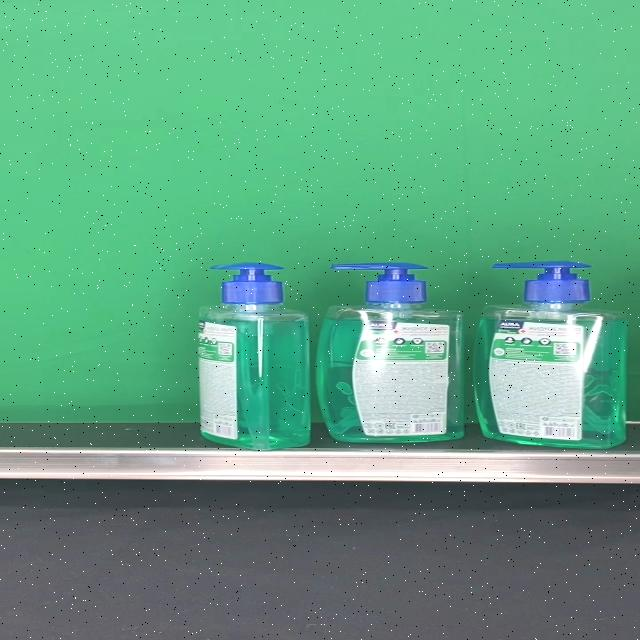Bottle: (472, 260, 626, 450), (316, 263, 464, 443), (197, 262, 312, 451)
Cap: (330, 262, 428, 304), (492, 261, 592, 302), (210, 262, 285, 304)
